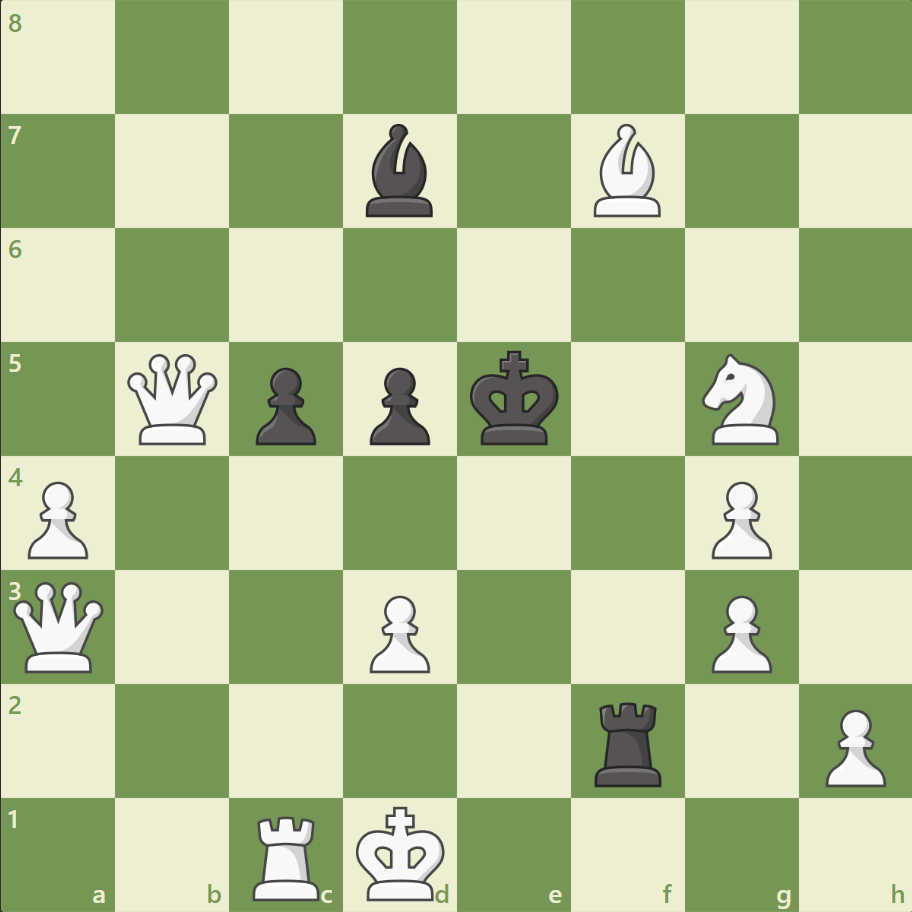B: (585, 120, 669, 222)
K: (351, 798, 451, 906)
N: (692, 348, 789, 450)
P: (20, 473, 95, 564), (701, 473, 776, 564), (701, 586, 776, 677), (361, 586, 435, 677), (815, 700, 889, 791)
Q: (124, 349, 223, 449), (10, 576, 109, 676)
R: (246, 806, 329, 904)
b: (358, 120, 442, 222)
k: (465, 344, 565, 452)
p: (247, 359, 322, 450), (361, 359, 435, 450)
r: (587, 693, 670, 790)
